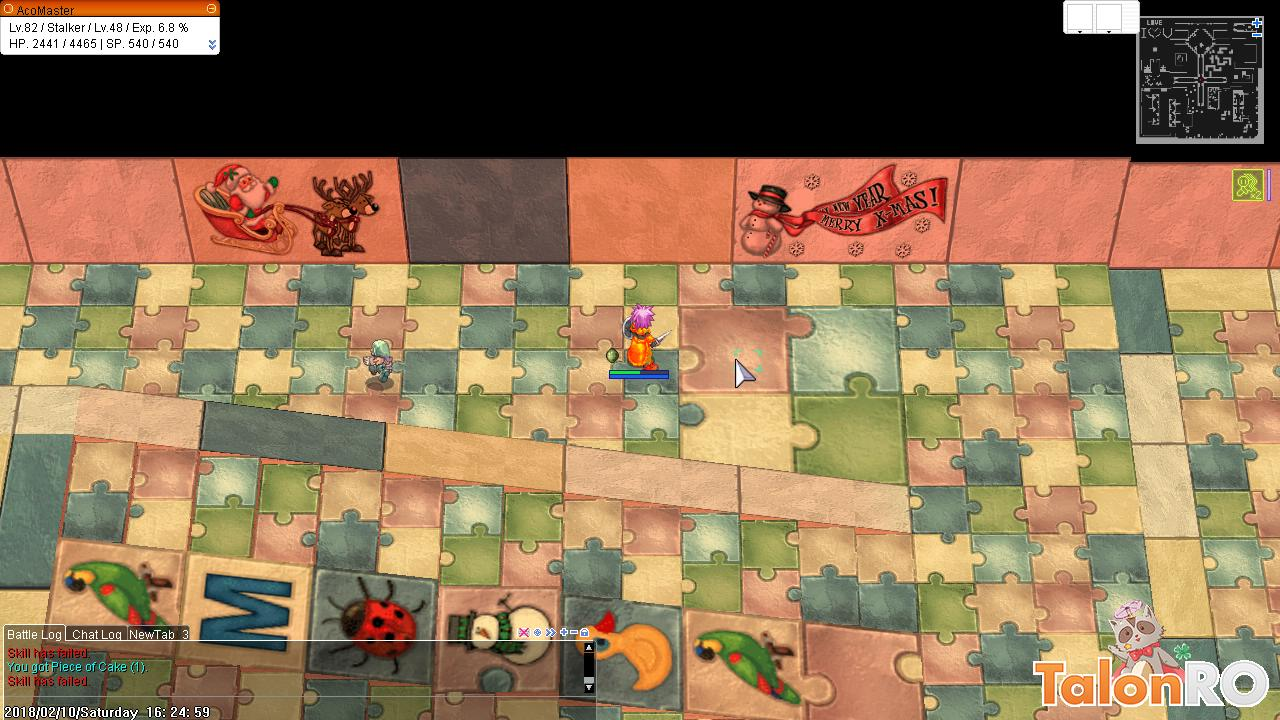loot: (600, 342, 621, 366)
